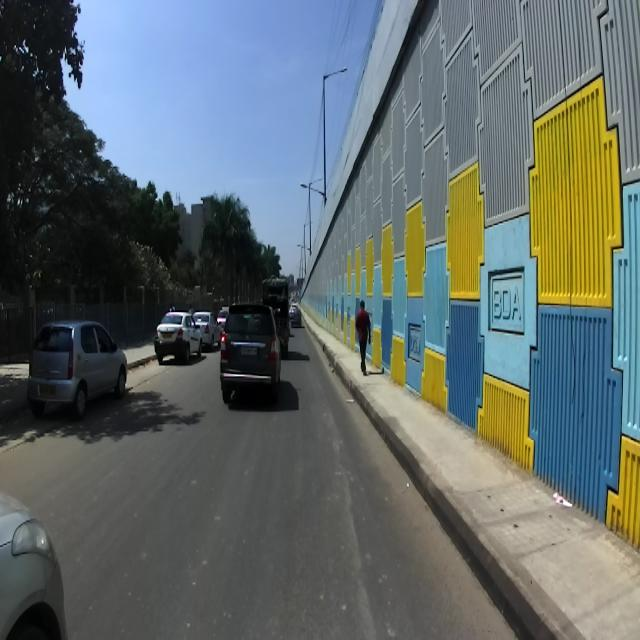car ahead at: (28, 306, 132, 424), (210, 294, 289, 408), (152, 301, 204, 372)
person ahead at: (348, 294, 378, 378)
